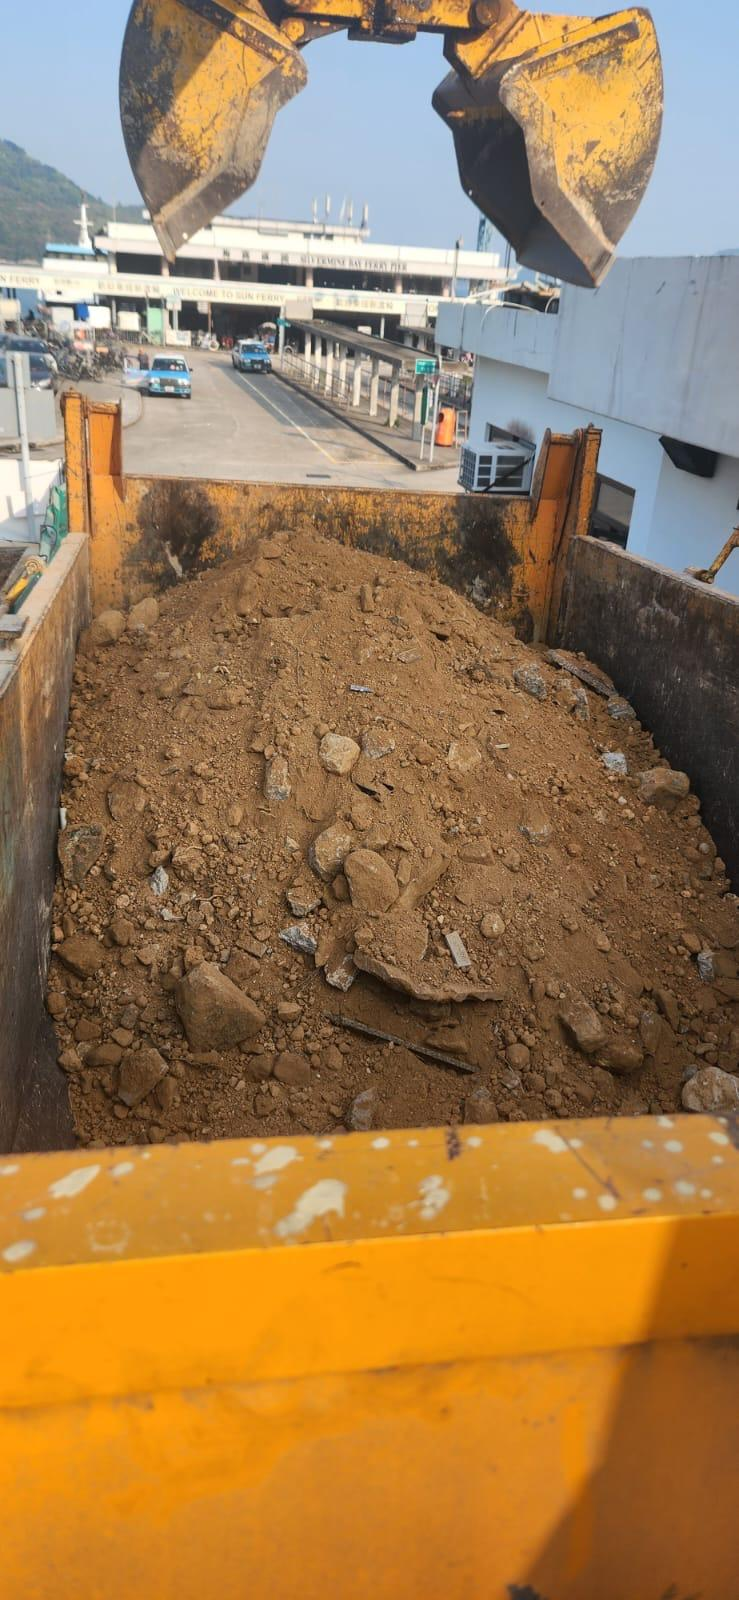dirt: (47, 524, 737, 1146)
stone: (173, 960, 265, 1052), (342, 847, 398, 913), (115, 1045, 168, 1106), (317, 731, 360, 776)
